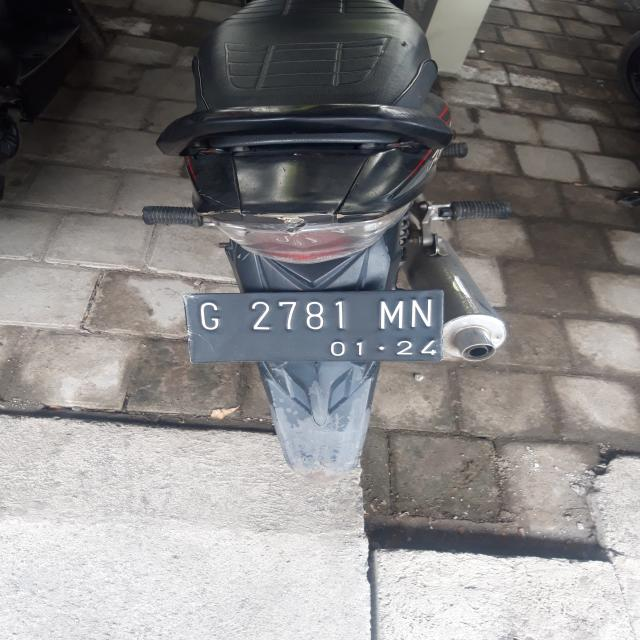plate: (192, 294, 444, 364)
